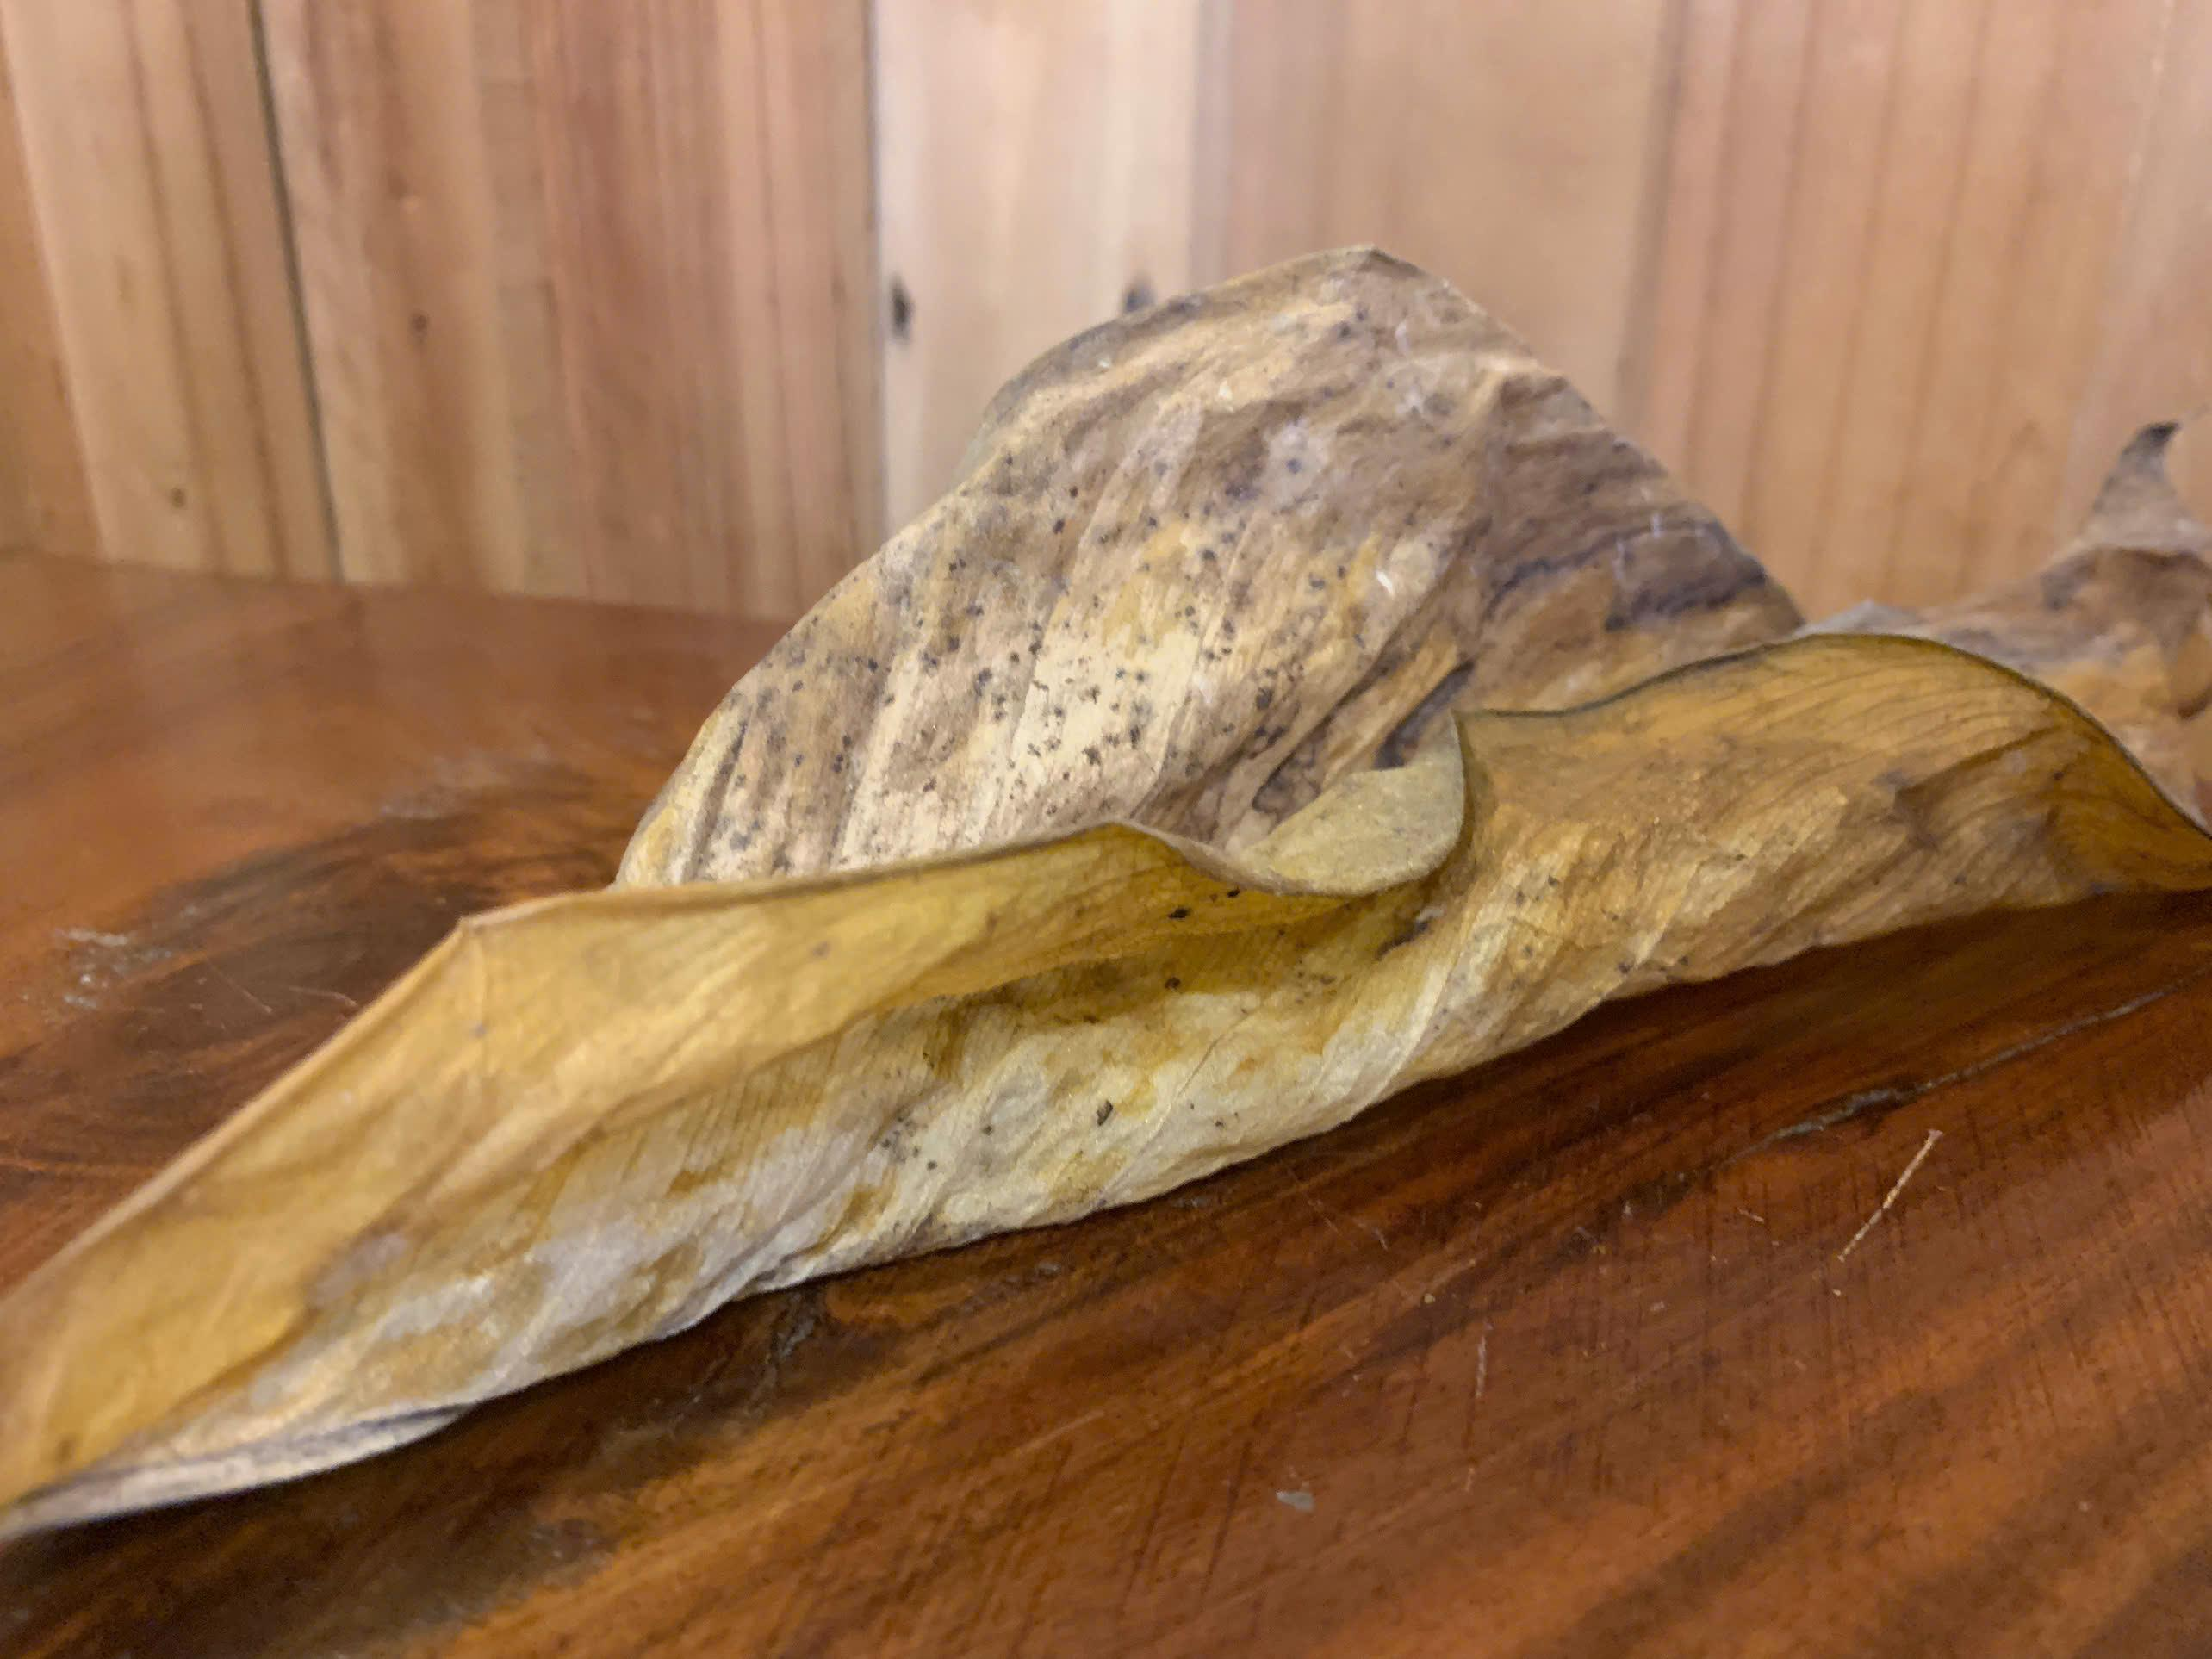Huu co: (61, 284, 2203, 1269)
